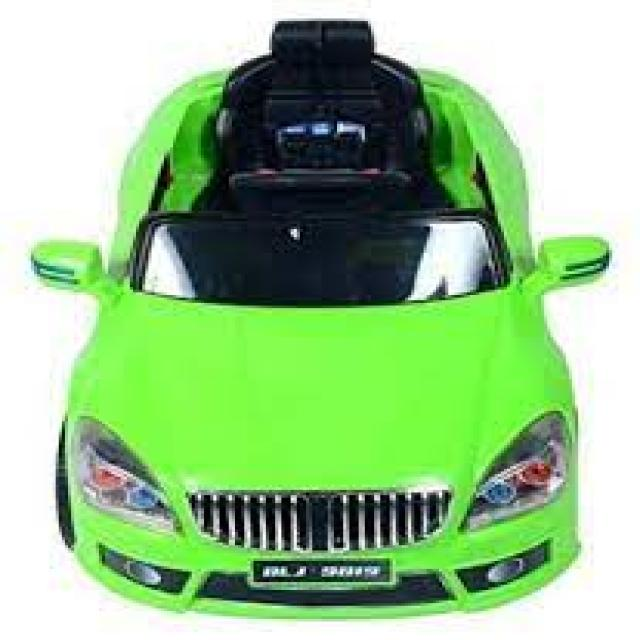Car: (28, 16, 609, 619)
